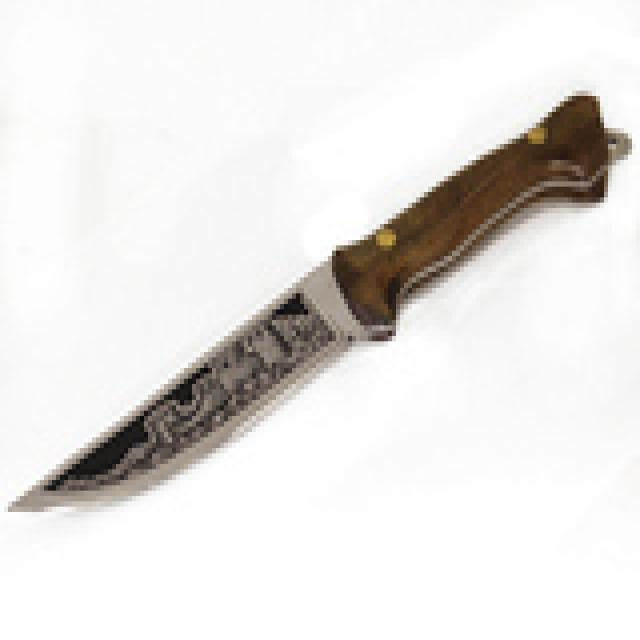Knife: (5, 72, 627, 532)
